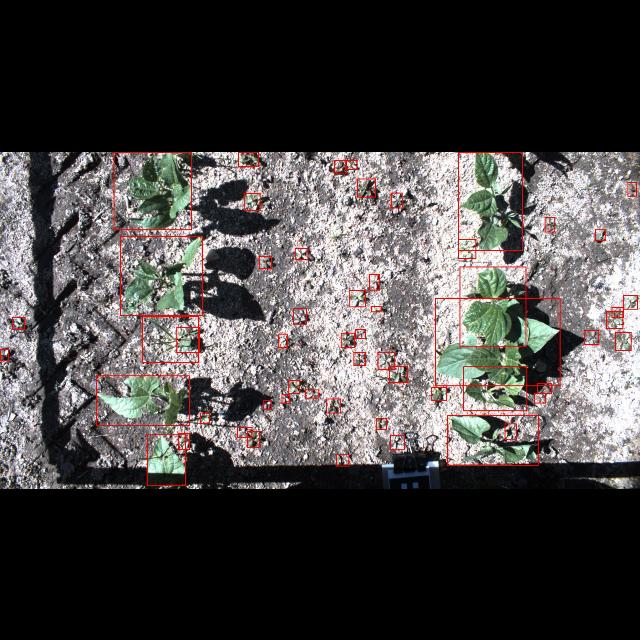crop: (436, 297, 560, 385), (120, 235, 202, 315), (458, 151, 522, 249), (114, 152, 190, 228), (460, 266, 526, 346), (96, 375, 190, 425), (448, 415, 538, 465), (463, 366, 527, 410), (147, 434, 186, 486), (177, 326, 200, 352)
weed: (142, 316, 198, 362), (458, 238, 476, 258), (357, 178, 375, 196), (388, 366, 408, 382), (244, 192, 260, 210), (378, 351, 394, 369), (607, 310, 623, 328), (615, 332, 631, 350), (238, 152, 258, 166), (350, 290, 366, 306), (341, 332, 355, 348), (390, 434, 404, 450), (326, 398, 340, 412), (584, 330, 598, 344), (623, 295, 637, 309), (178, 433, 190, 449), (248, 431, 260, 447), (294, 308, 306, 324), (504, 423, 516, 439), (432, 386, 446, 399), (258, 256, 272, 268), (294, 247, 308, 259), (236, 427, 252, 437), (369, 273, 379, 289), (544, 216, 554, 232), (336, 454, 349, 466), (391, 192, 402, 206), (13, 317, 25, 329), (288, 380, 300, 392), (354, 352, 366, 364), (334, 160, 346, 172), (278, 333, 288, 347), (537, 383, 551, 393), (345, 159, 357, 169), (534, 393, 546, 403), (595, 228, 605, 240), (628, 181, 636, 195), (376, 418, 386, 429), (200, 413, 210, 423), (355, 328, 365, 338), (612, 307, 622, 317), (306, 389, 318, 397), (0, 348, 8, 359), (263, 400, 271, 410), (282, 393, 288, 402), (371, 306, 381, 310)
